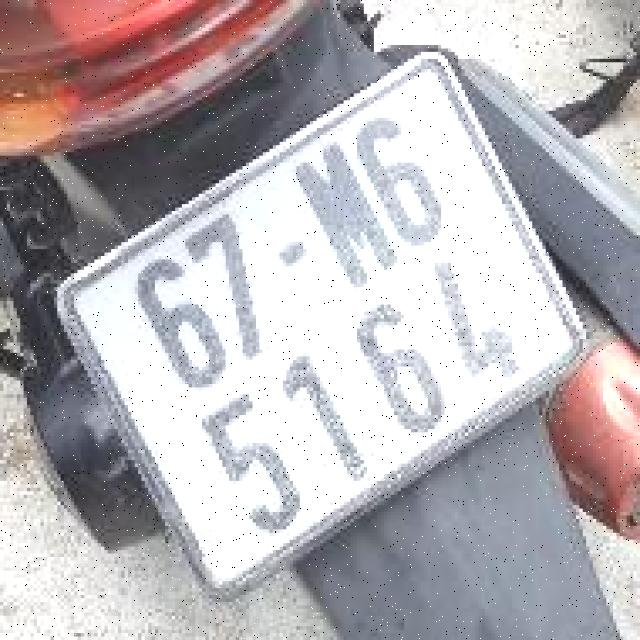1: (265, 339, 392, 499)
4: (415, 229, 548, 404)
5: (180, 379, 321, 552)
6: (117, 231, 238, 404), (337, 288, 461, 450), (345, 104, 461, 264)
7: (174, 208, 295, 373)
M: (277, 129, 410, 304)
